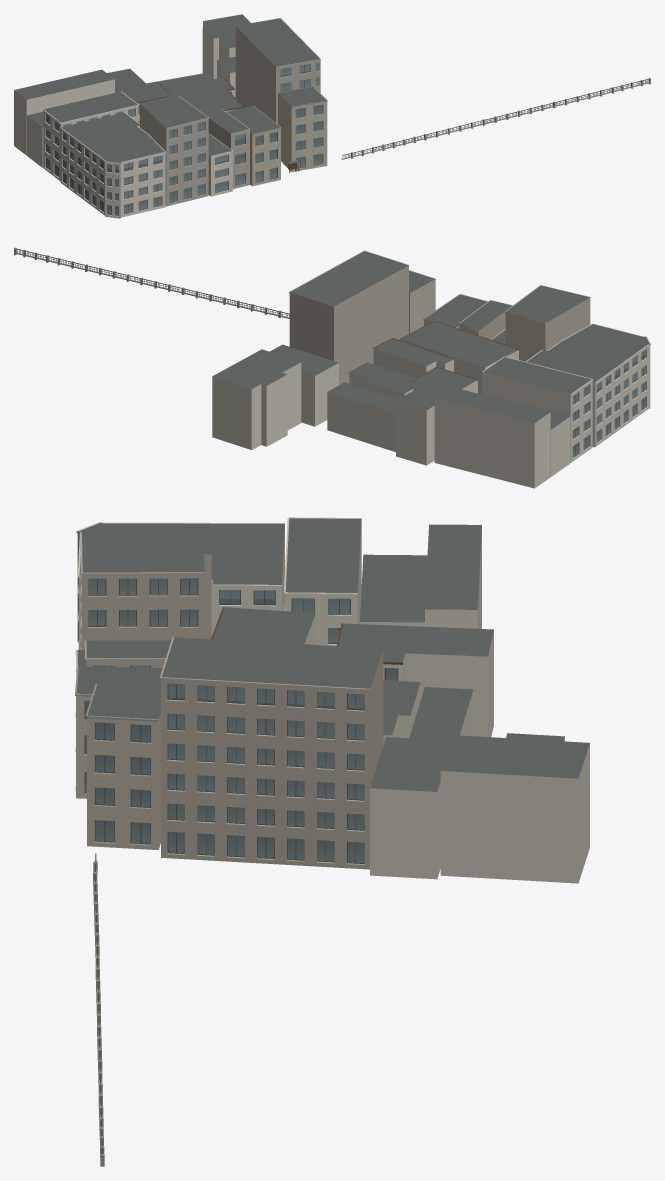
File: near.gltf
3 renders of one model, top to bottom at view 1: azimuth 30°, elevation 25°; view 2: azimuth 150°, elevation 25°; view 3: azimuth 270°, elevation 25°, orthographic. The views are drawn at different scales.
Parts seen in each view (by area): view 1: cell-e010-n000_near_roof, cell-e010-n000_near_plaster, cell-e010-n000_near_tile-wall, cell-e010-n000_near_glass, cell-e010-n000_near_stone, cell-e010-n000_near_frame, cell-e010-n000_near_granite; view 2: cell-e010-n000_near_plaster, cell-e010-n000_near_roof, cell-e010-n000_near_tile-wall, cell-e010-n000_near_glass, cell-e010-n000_near_frame, cell-e010-n000_near_granite, cell-e010-n000_near_stone, cell-e010-n000_near_wood; view 3: cell-e010-n000_near_roof, cell-e010-n000_near_tile-wall, cell-e010-n000_near_plaster, cell-e010-n000_near_glass, cell-e010-n000_near_stone, cell-e010-n000_near_frame, cell-e010-n000_near_granite.
Part boxes in pixels (x1,y1,x2,y2): cell-e010-n000_near_roof: (14, 14, 325, 163); cell-e010-n000_near_plaster: (14, 21, 239, 218); cell-e010-n000_near_tile-wall: (140, 18, 320, 206); cell-e010-n000_near_glass: (45, 62, 322, 215); cell-e010-n000_near_stone: (250, 93, 327, 186); cell-e010-n000_near_frame: (46, 64, 649, 215); cell-e010-n000_near_granite: (252, 78, 650, 183); cell-e010-n000_near_plaster: (212, 323, 650, 488); cell-e010-n000_near_roof: (213, 251, 649, 429); cell-e010-n000_near_tile-wall: (289, 250, 590, 384); cell-e010-n000_near_glass: (572, 349, 645, 457); cell-e010-n000_near_frame: (16, 248, 646, 457); cell-e010-n000_near_granite: (14, 247, 487, 319); cell-e010-n000_near_stone: (409, 279, 459, 333); cell-e010-n000_near_wood: (373, 321, 519, 381); cell-e010-n000_near_roof: (77, 518, 589, 791); cell-e010-n000_near_tile-wall: (80, 531, 383, 869); cell-e010-n000_near_plaster: (75, 517, 589, 883); cell-e010-n000_near_glass: (85, 578, 397, 863); cell-e010-n000_near_stone: (76, 696, 160, 849); cell-e010-n000_near_frame: (84, 578, 364, 1159); cell-e010-n000_near_granite: (75, 666, 158, 1166).
Size of the model in its own units: 114 by 18.13 by 46.64.
Materials: 8 (6 with a texture image).
